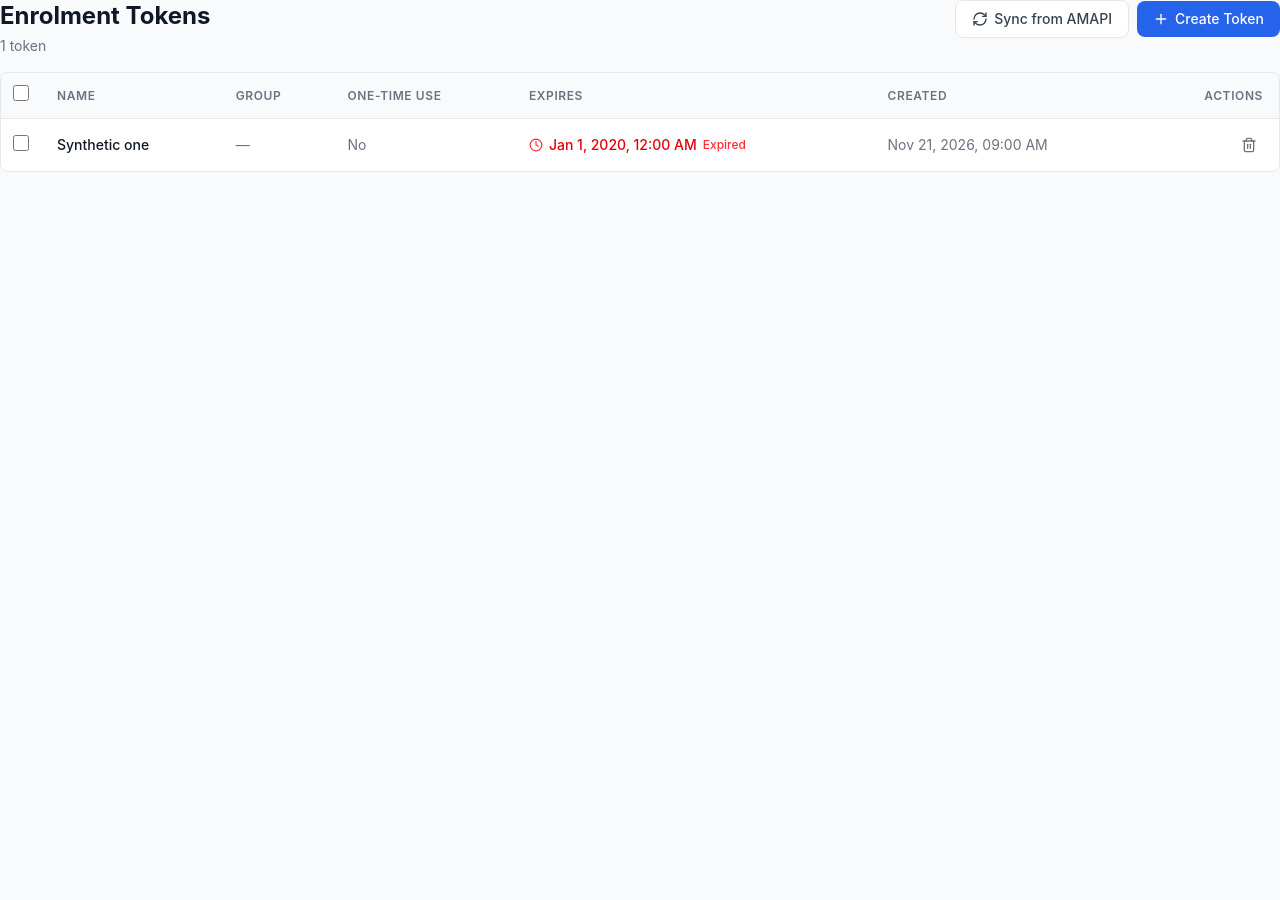
Test: existing enrolment token handoff › renders metadata and no copy controls when no payload exists
The width and height of the screenshot is (1280, 900).
Click the button with aria-label "Open enrolment token Synthetic one". click: (640, 145)
box: [1,118,1279,171]
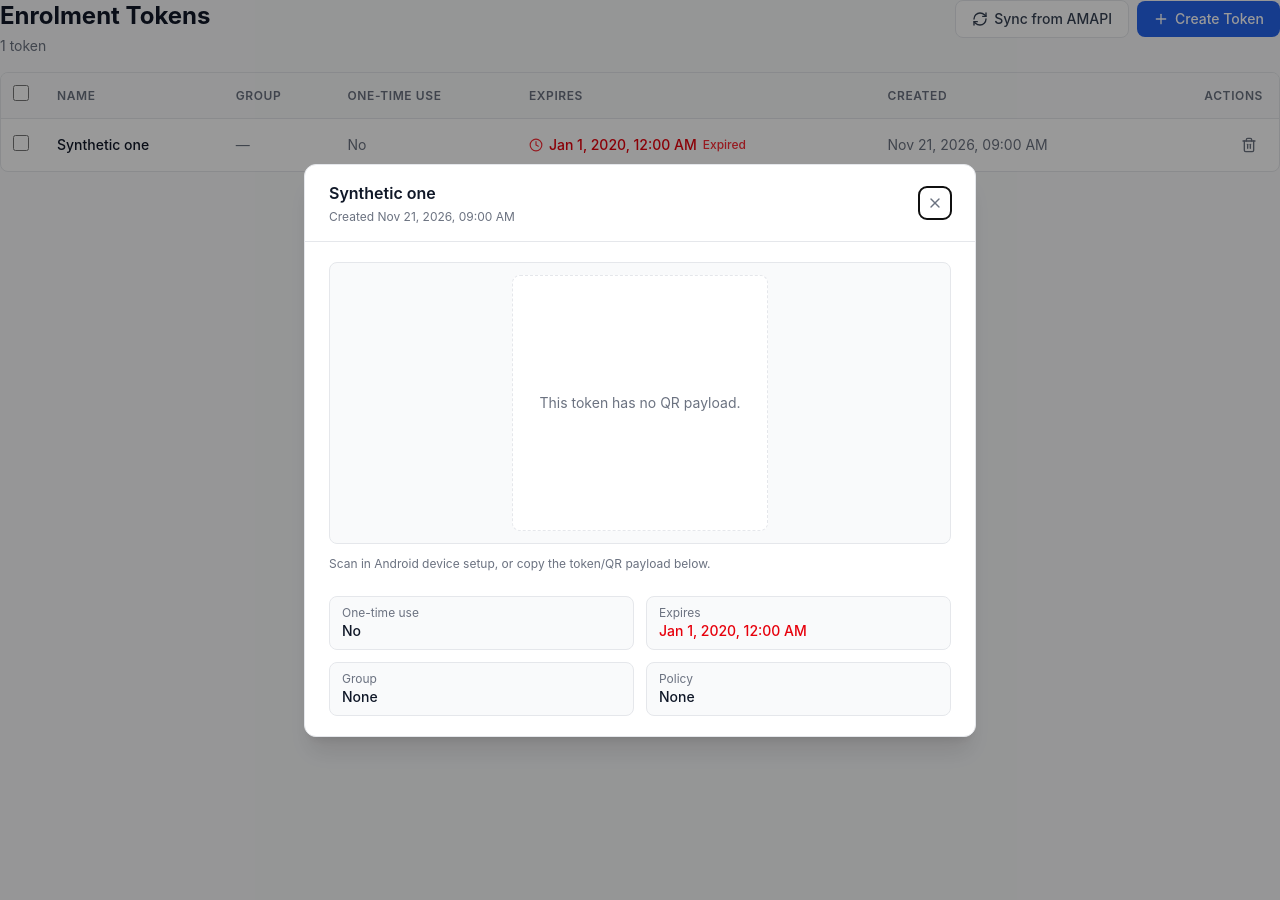
Expected: the text "Expired" is shown, [703,137,746,153]
Expected: the dialog is shown, [304,164,976,736]
Expected: the text "This token has no QR payload." is shown, [512,274,768,530]
